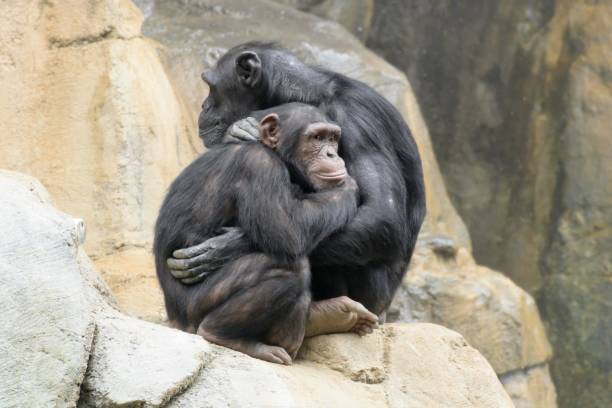chimpanzee: (258, 95, 375, 213)
